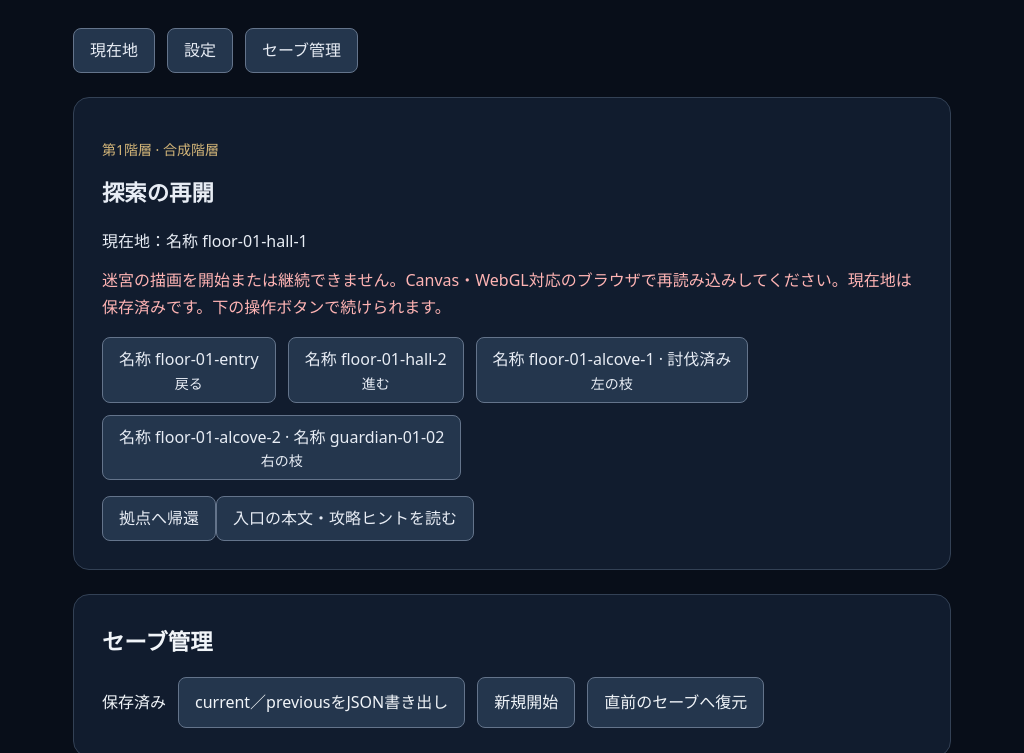
探索画面と保存 › 討伐済み守護者を経路の敵表示から除き、普通の部屋として保存して帰還する
(page scrolled)
What coordinates should you click on to do the following:
click the button "名称 floor-01-alcove-1 · 討伐済み 左の枝"
I would click on:
 (612, 370)
Its box is 476,337 -> 748,402.
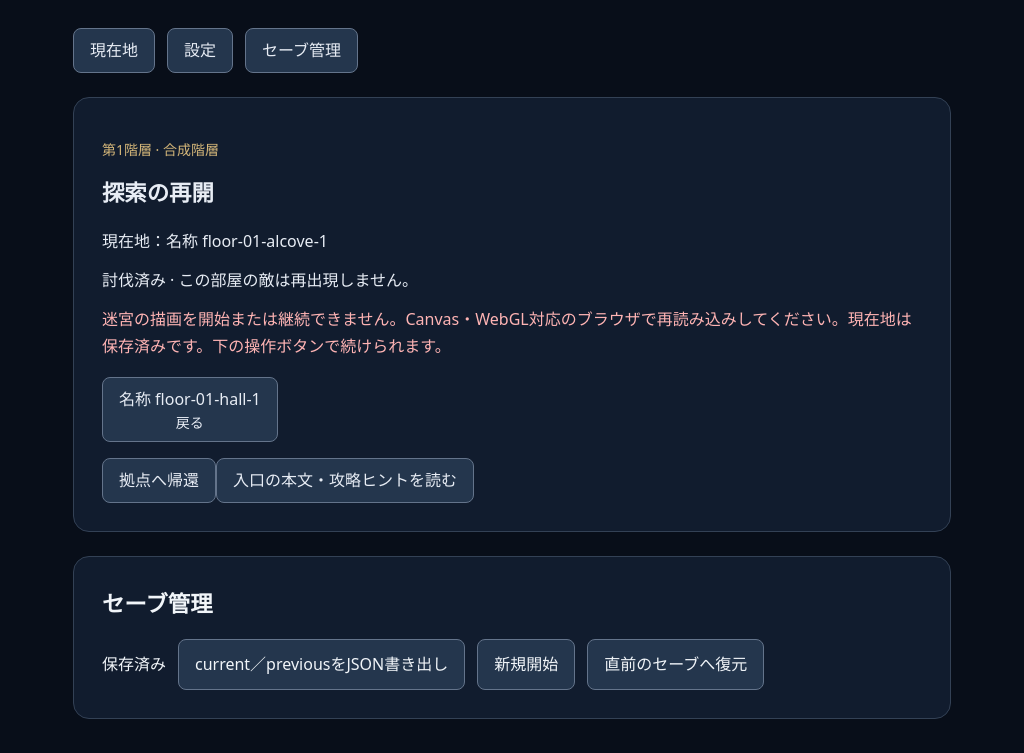
What coordinates should you click on to do the following:
click the button "拠点へ帰還"
I would click on:
 (159, 480)
Its box is 102,458 -> 216,503.
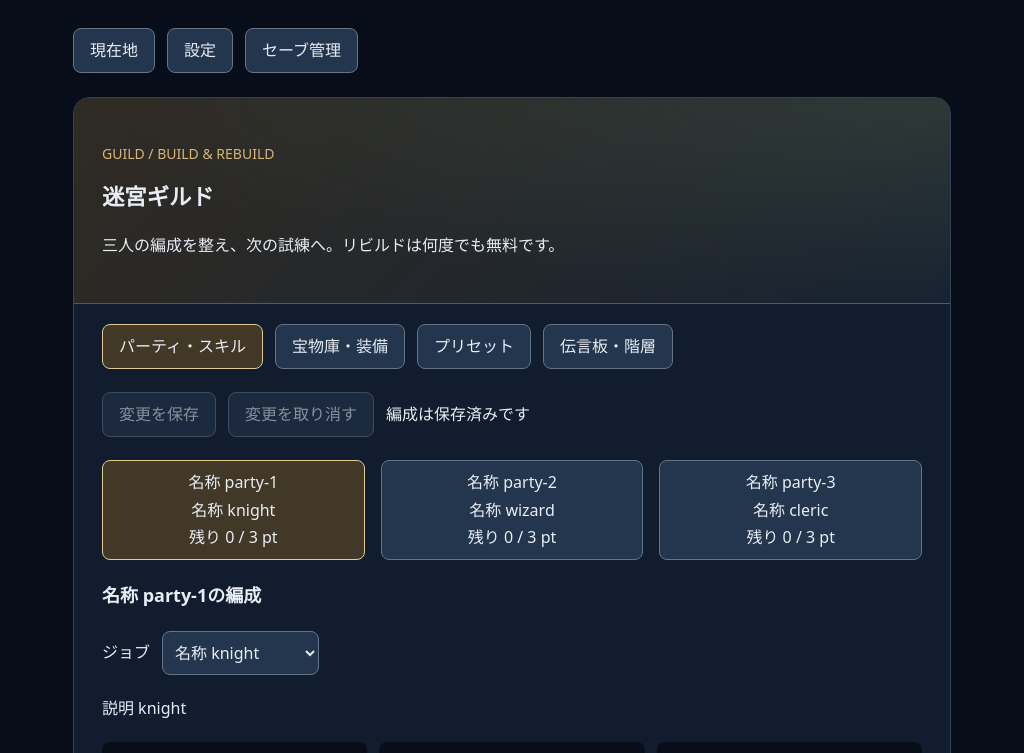
Now the heading "迷宮ギルド" is shown, box 102,181 -> 214,212
